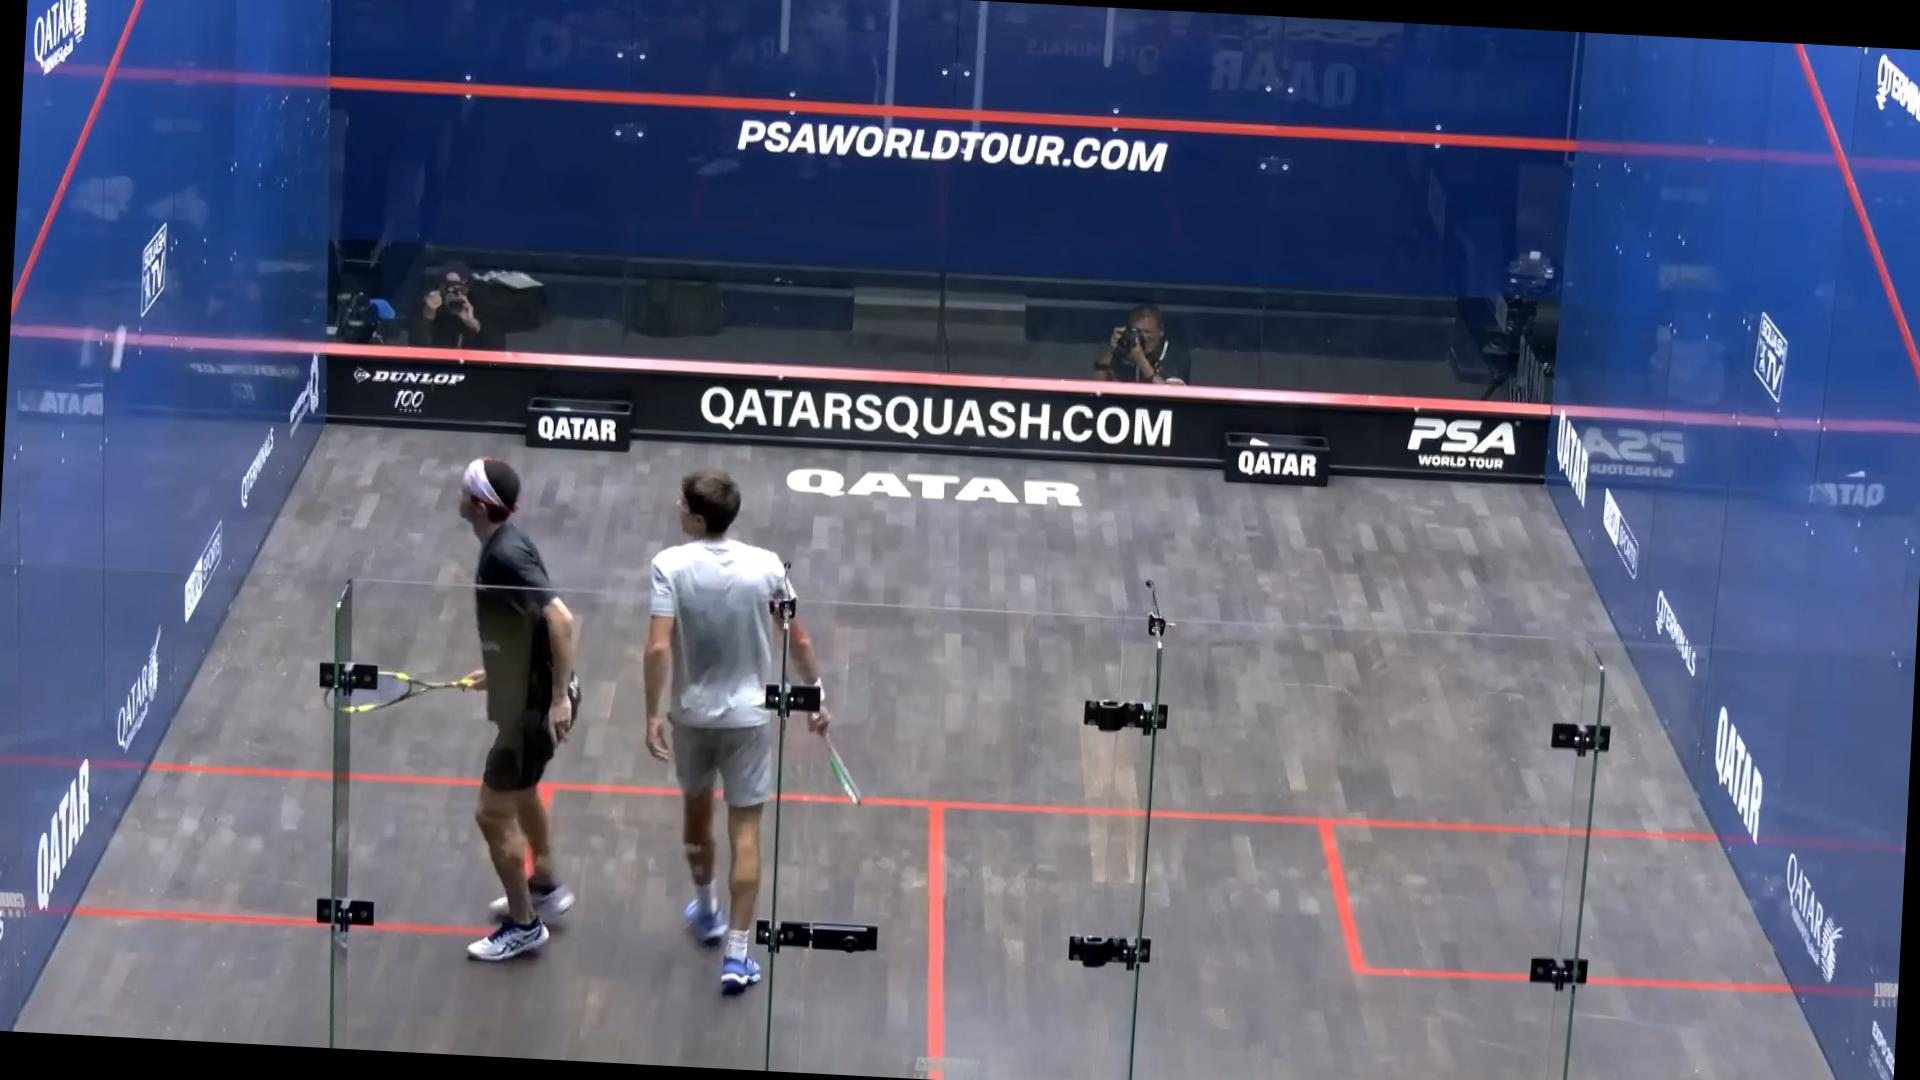Racket: (324, 658, 468, 732)
